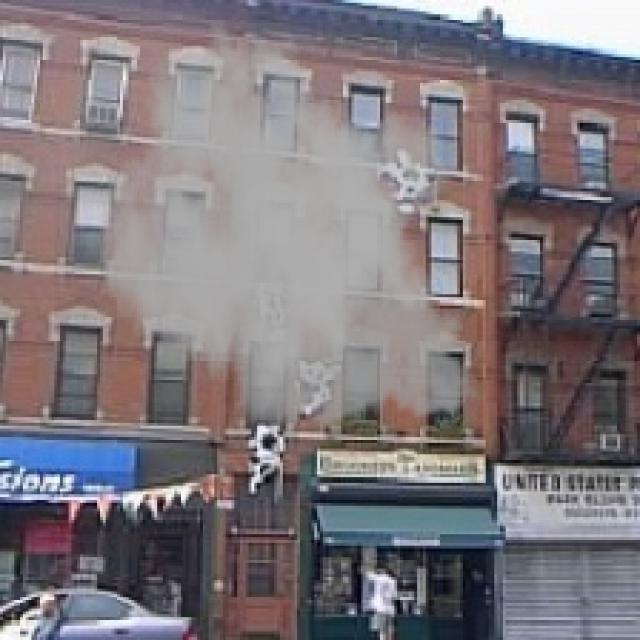smoke: (97, 17, 489, 443)
